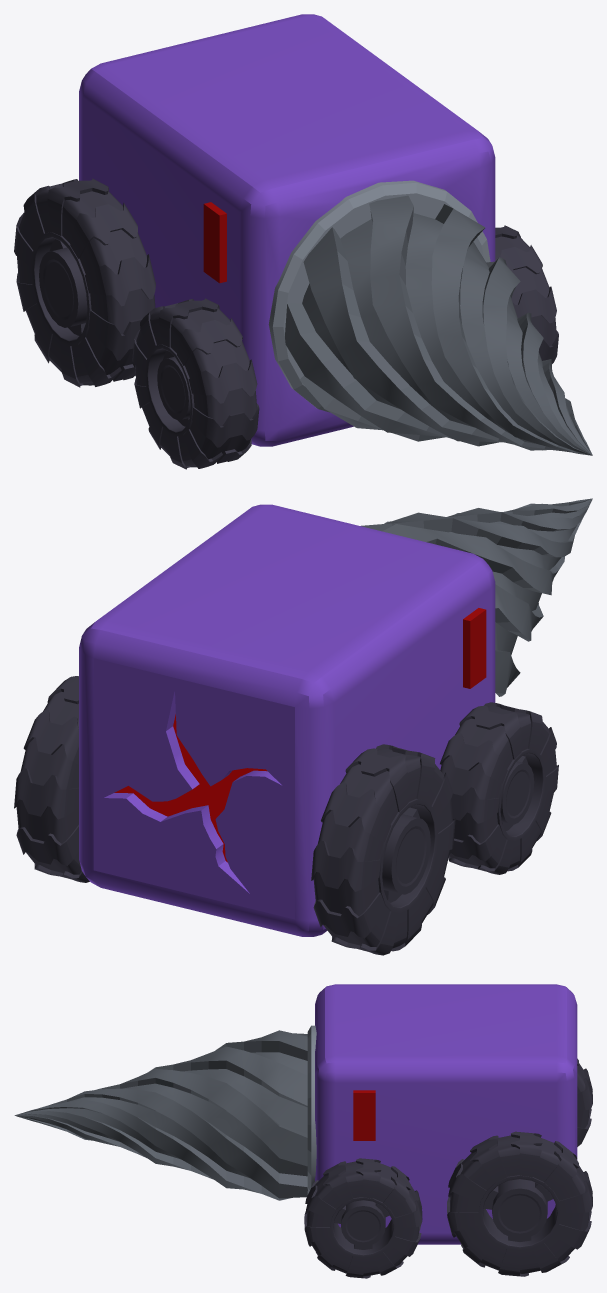
Rendered from DrillEnemy1.fbx.
3 renders of one model, top to bottom at view 1: azimuth 30°, elevation 25°; view 2: azimuth 150°, elevation 25°; view 3: azimuth 270°, elevation 25°, orthographic. The views are drawn at different scales.
Parts seen in each view (by area): view 1: polySurface1; view 2: polySurface1; view 3: polySurface1.
Boxes of the visible parts, x1,y1,x2,y2 form: polySurface1: [14, 14, 592, 469]; polySurface1: [14, 498, 592, 955]; polySurface1: [14, 984, 592, 1278].
Size of the model in its own units: 35.19 by 26.85 by 70.67.
